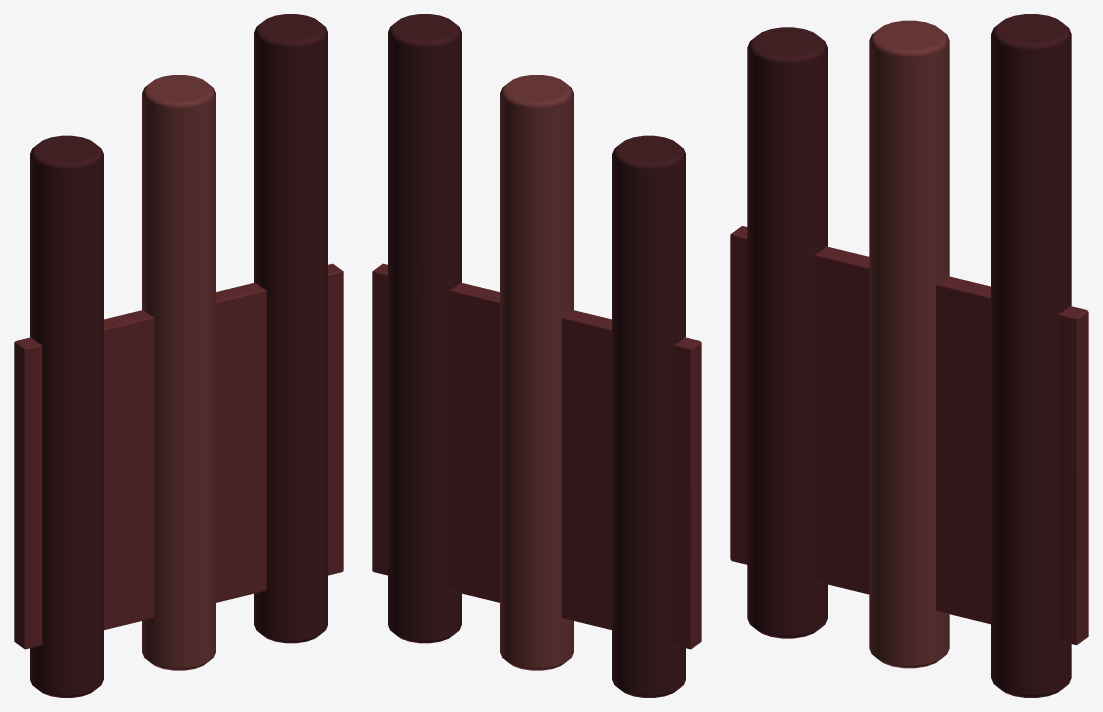
Rendered from living-cave-wall-boundary.70d628eb.glb.
3 renders of one model, left to right at view 1: azimuth 30°, elevation 25°; view 2: azimuth 150°, elevation 25°; view 3: azimuth 330°, elevation 25°, orthographic. The views are drawn at different scales.
Parts seen in each view (by area): view 1: body; view 2: body; view 3: body.
Boxes of the visible parts, x1,y1,x2,y2 form: body: [14, 14, 343, 697]; body: [372, 14, 701, 697]; body: [730, 14, 1088, 697].
Size of the model in its own units: 1 by 1.8 by 0.2.
